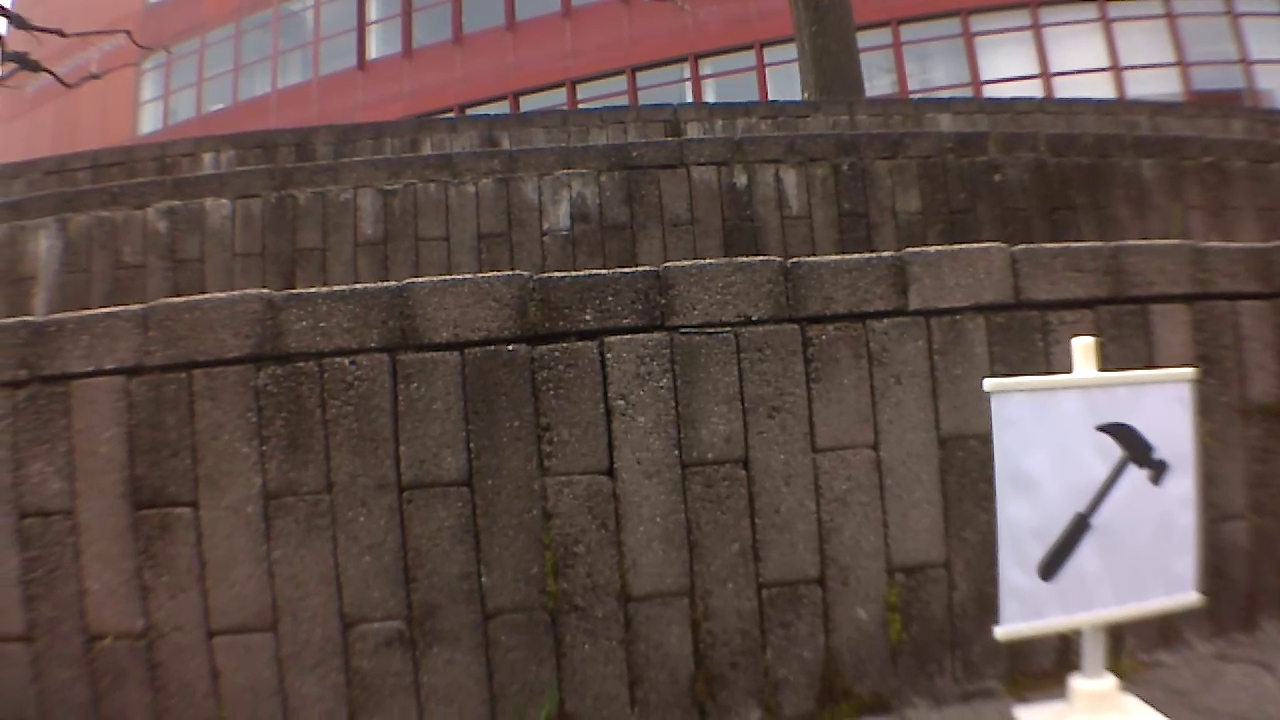hammer: (1036, 425, 1168, 584)
